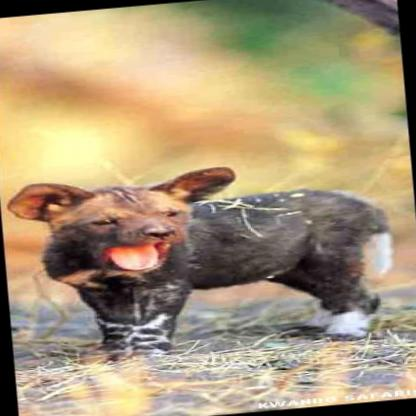African_hunting_dog: (0, 149, 403, 371)
